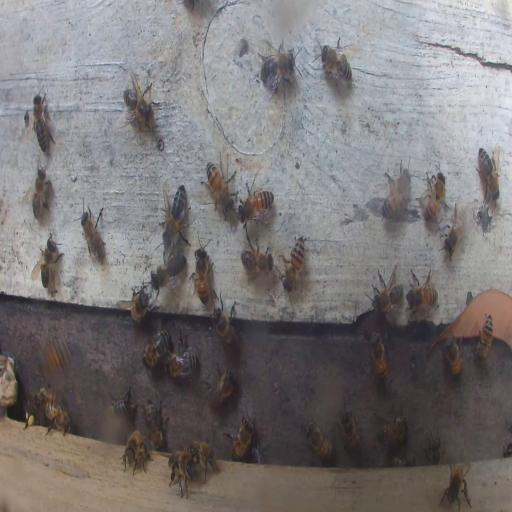bee: (256, 40, 296, 96), (121, 73, 154, 130), (319, 36, 353, 90), (33, 232, 63, 292), (440, 458, 473, 512), (204, 153, 234, 212), (162, 183, 190, 246), (372, 265, 405, 316), (417, 166, 446, 224), (381, 165, 411, 220), (80, 203, 106, 265), (204, 362, 236, 410), (476, 148, 502, 206), (211, 302, 240, 354), (190, 237, 211, 307), (122, 427, 152, 475), (40, 386, 70, 434), (440, 205, 466, 260), (152, 250, 185, 293), (282, 234, 306, 293), (31, 93, 54, 153), (406, 270, 438, 313), (226, 413, 255, 460), (168, 448, 195, 498), (240, 187, 276, 223), (141, 329, 171, 369), (305, 422, 334, 463), (187, 440, 218, 478), (377, 412, 409, 448), (240, 243, 272, 279), (146, 397, 166, 450), (338, 409, 362, 453), (32, 163, 50, 219), (165, 347, 198, 377), (369, 331, 387, 384), (130, 286, 155, 323), (108, 387, 136, 415), (444, 337, 463, 378), (476, 315, 493, 360), (426, 428, 442, 462), (393, 449, 416, 465), (248, 445, 264, 463), (23, 404, 35, 424)
